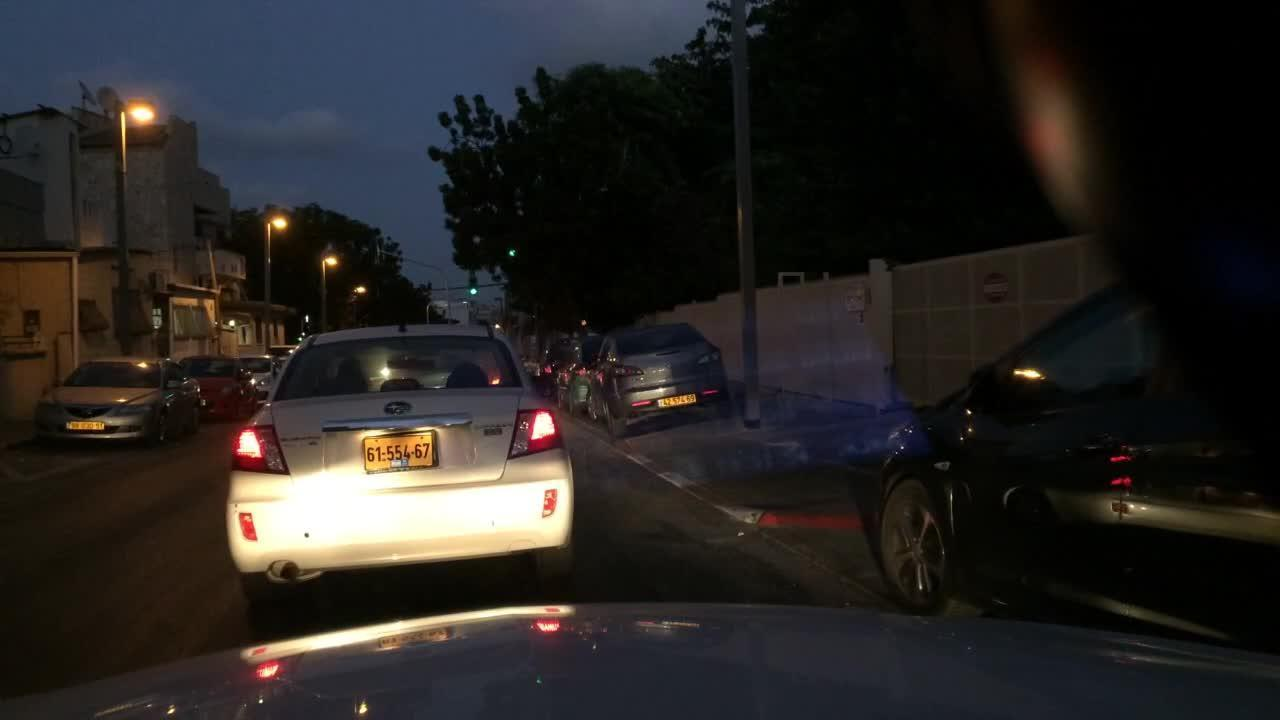subaru: (377, 398, 422, 418)
